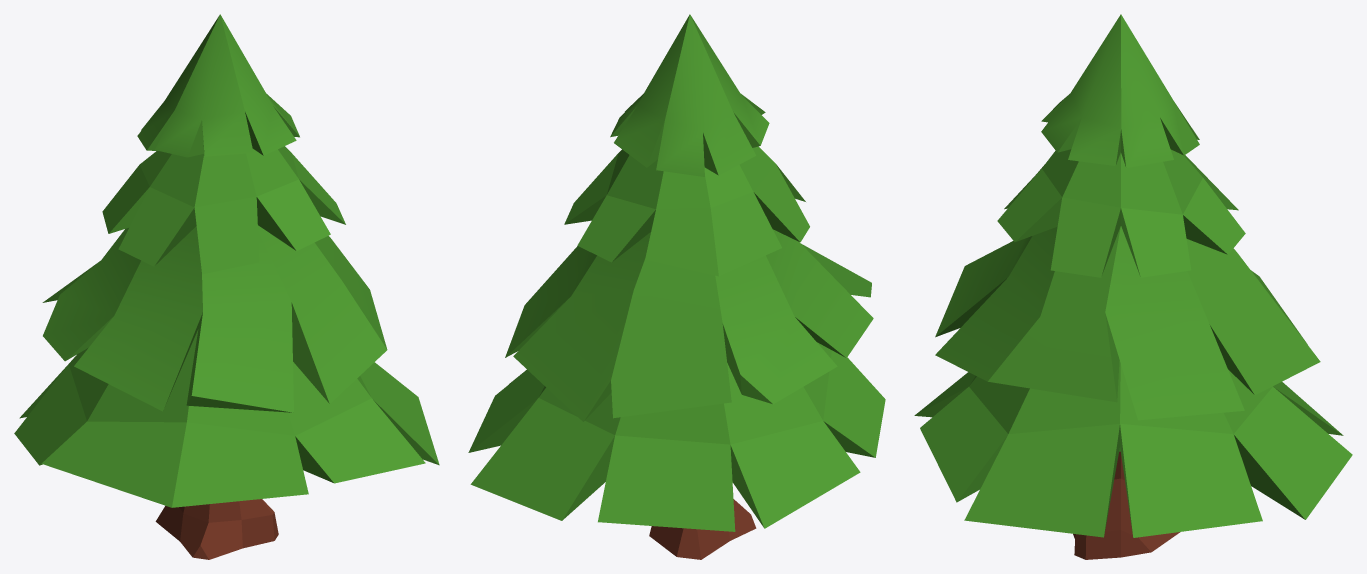
Rendered from maya_export_Tree1_v2.fbx.
The picture shows the model from 3 angles, left to right: view 1: azimuth 30°, elevation 25°; view 2: azimuth 150°, elevation 25°; view 3: azimuth 270°, elevation 25°; orthographic projection.
Parts seen in each view (by area): view 1: Tree1_v2; view 2: Tree1_v2; view 3: Tree1_v2.
Boxes of the visible parts, <box> form: Tree1_v2: <box>14,14,439,559</box>; Tree1_v2: <box>468,14,885,559</box>; Tree1_v2: <box>914,14,1352,559</box>.
Size of the model in its own units: 3.69 by 4.9 by 3.71.
1 material, 1 textured.
